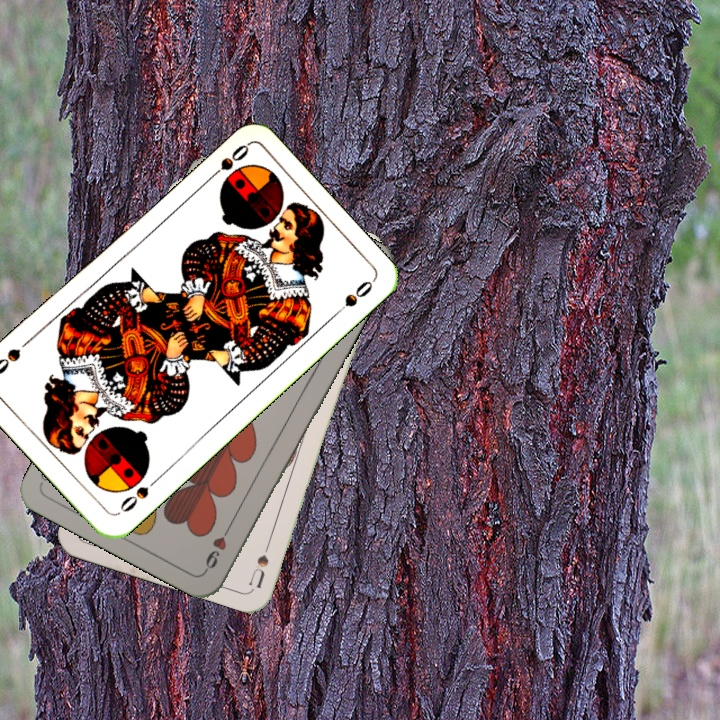H9: (200, 520, 235, 574)
SO: (202, 140, 252, 185), (116, 473, 162, 515)
SU: (245, 531, 275, 590)
